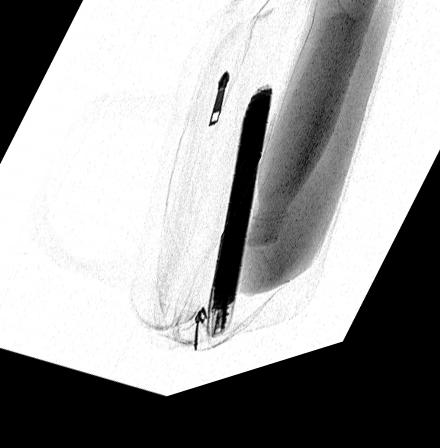Powerbank: (202, 103, 274, 355)
